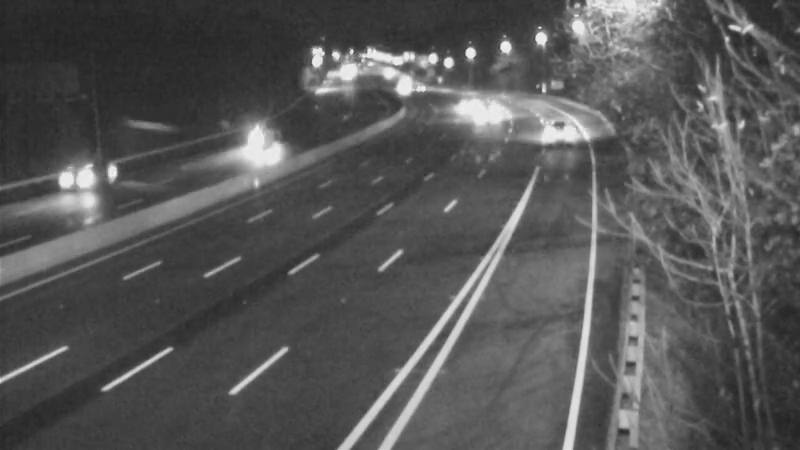vehicle: (45, 137, 125, 217), (397, 60, 447, 110), (374, 66, 424, 116), (438, 81, 488, 131), (464, 88, 514, 138), (535, 106, 585, 156), (233, 113, 283, 163)
